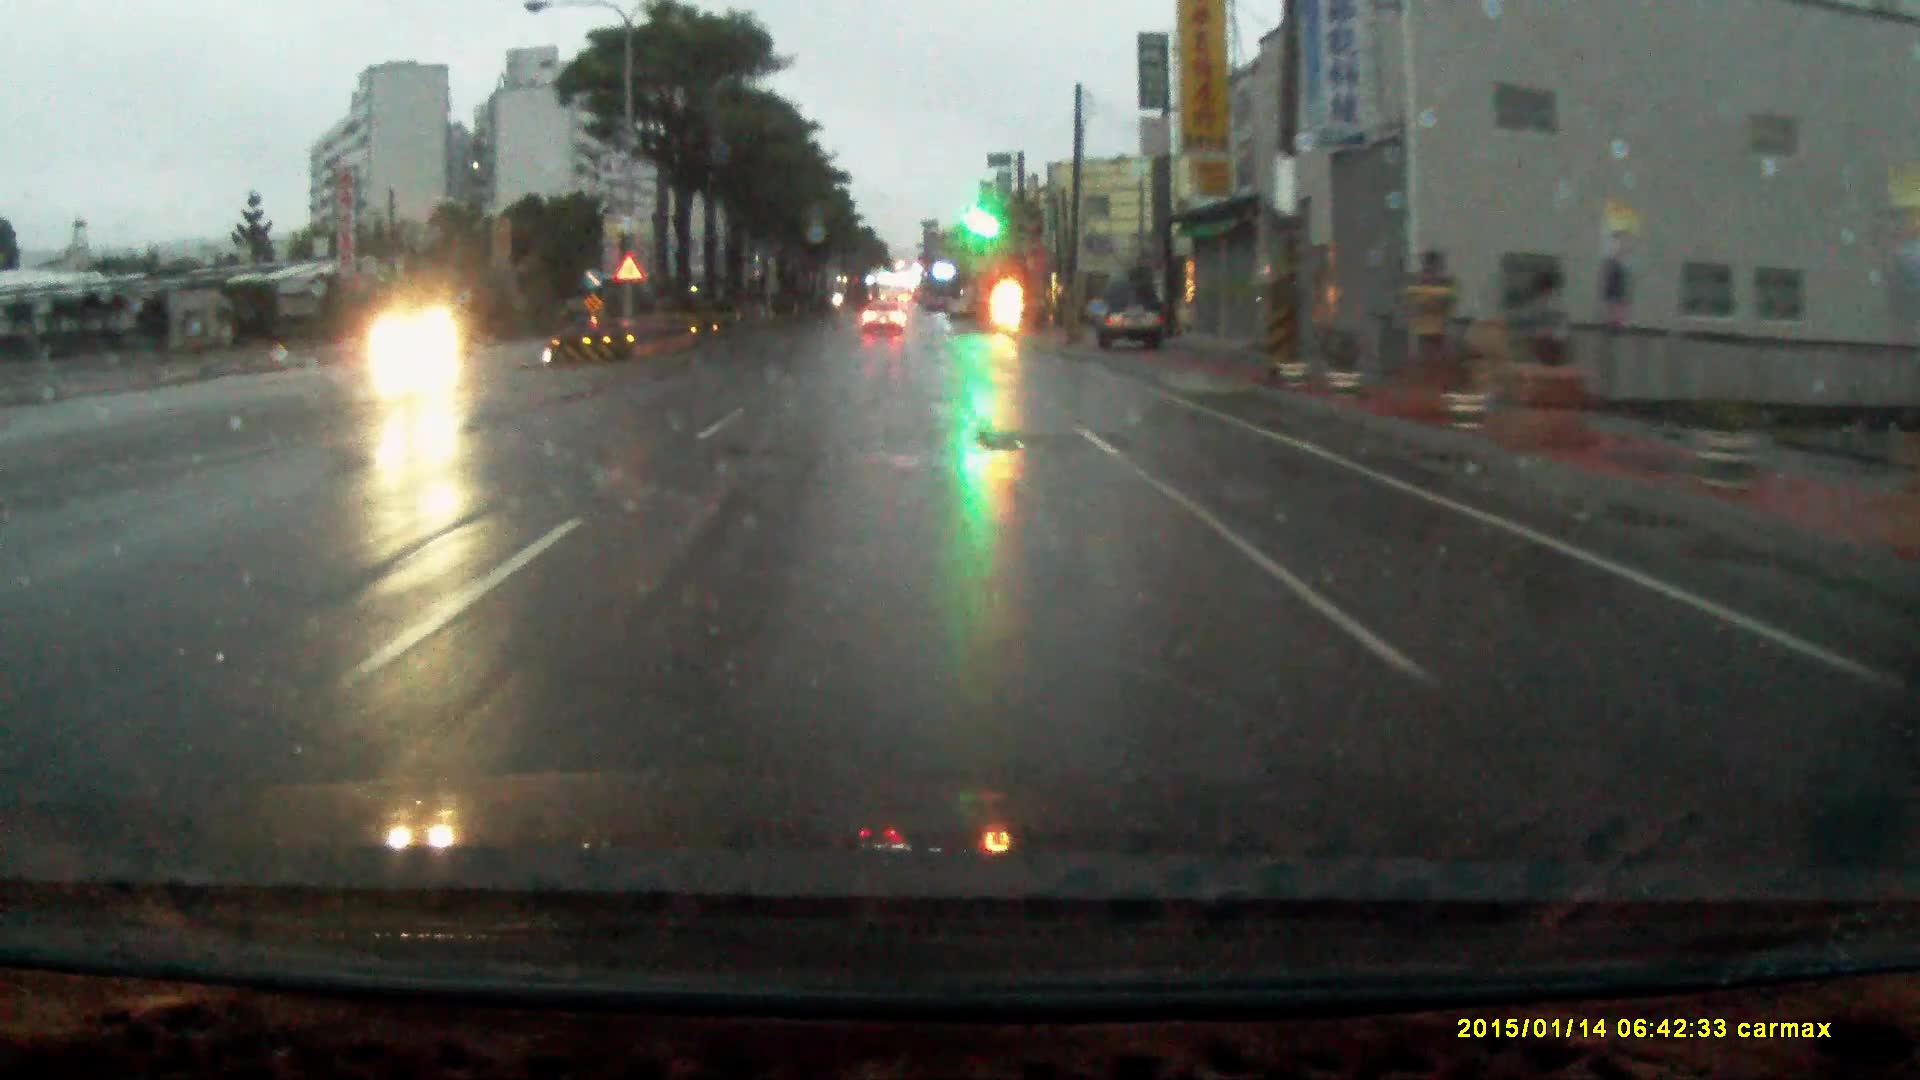vehicle: (1095, 281, 1168, 352), (862, 302, 909, 339)
